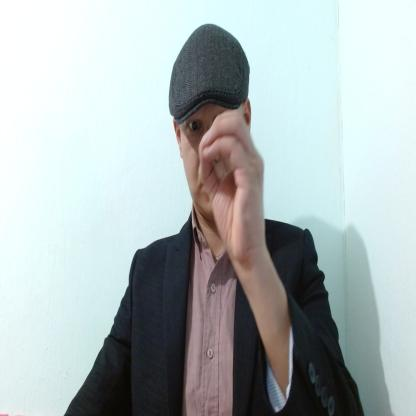O: (200, 107, 264, 258)
